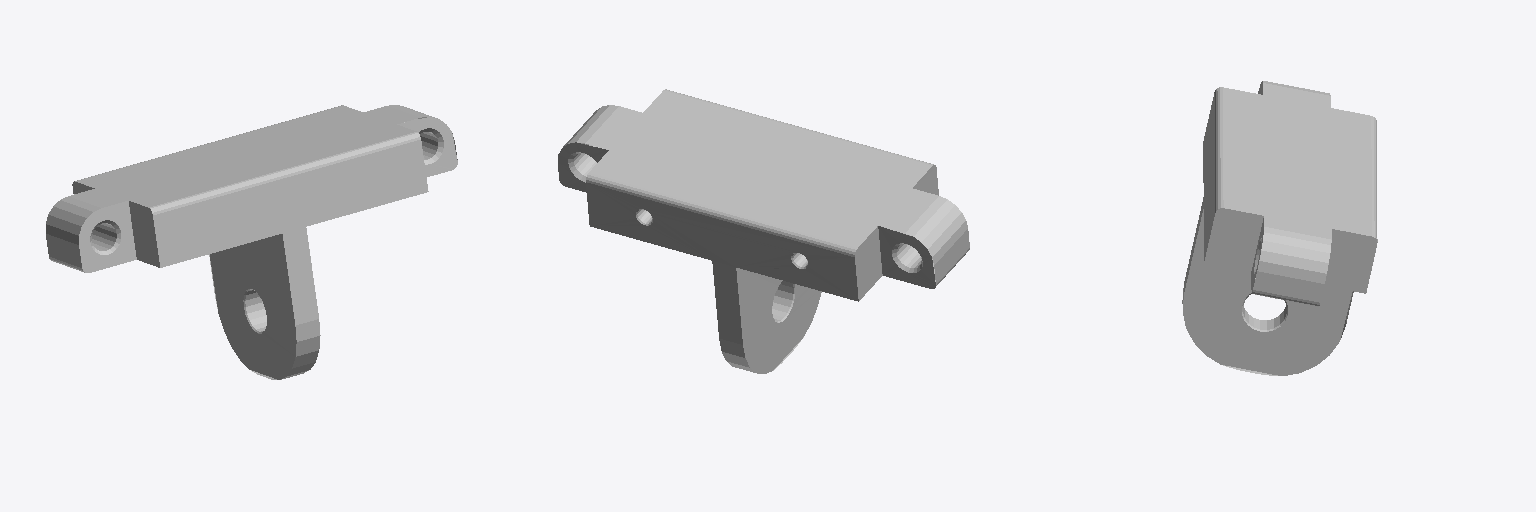
The model's file is handl_finger_pinky1_joint.obj.
3 renders of one model, left to right at view 1: azimuth 30°, elevation 25°; view 2: azimuth 150°, elevation 25°; view 3: azimuth 270°, elevation 25°, orthographic.
Bounding box in the file's own units: 0.0316 × 0.018 × 0.0141.